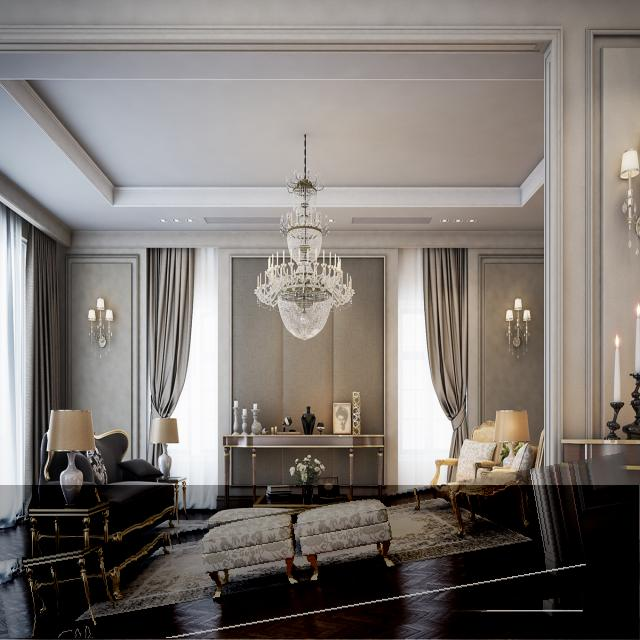floor: (0, 485, 640, 639)
